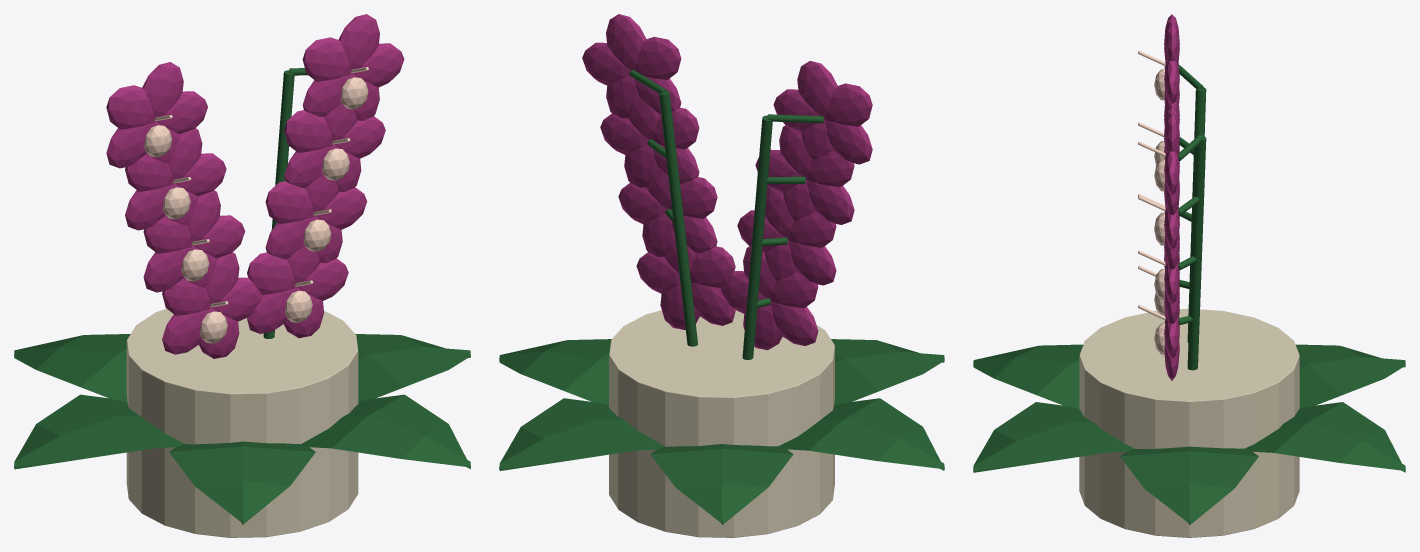
Rendered from source-edit.glb.
The picture shows the model from 3 angles, left to right: view 1: azimuth 30°, elevation 25°; view 2: azimuth 150°, elevation 25°; view 3: azimuth 270°, elevation 25°; orthographic projection. The views are drawn at different scales.
Parts seen in each view (by area): view 1: ORCHID_Pot, ORCHID_Leaf_4, ORCHID_Leaf_3, ORCHID_Leaf_5, ORCHID_Leaf_2, ORCHID_Leaf_0, ORCHID_Bloom_Petal.017, ORCHID_Bloom_Petal.037, ORCHID_Bloom_Petal.027, ORCHID_Bloom_Petal.032, ORCHID_Bloom_Petal.036, ORCHID_Bloom_Petal.016 (+40 smaller); view 2: ORCHID_Pot, ORCHID_Leaf_2, ORCHID_Leaf_1, ORCHID_Leaf_3, ORCHID_Leaf_0, ORCHID_Leaf_4, ORCHID_Stem.001, ORCHID_Stem, ORCHID_Bloom_Petal.017, ORCHID_Bloom_Petal.037, ORCHID_Bloom_Petal.016, ORCHID_Bloom_Petal.036 (+35 smaller); view 3: ORCHID_Pot, ORCHID_Leaf_0, ORCHID_Leaf_5, ORCHID_Leaf_1, ORCHID_Leaf_4, ORCHID_Leaf_2, ORCHID_Stem.001, ORCHID_Stem, ORCHID_Bloom_Petal.035, ORCHID_Bloom_Petal.015, ORCHID_Bloom_Petal.036, ORCHID_Bloom_Petal.016.
Part boxes in pixels (bbox=[...]): ORCHID_Pot: bbox=[126, 308, 358, 537]; ORCHID_Leaf_4: bbox=[169, 441, 315, 524]; ORCHID_Leaf_3: bbox=[14, 394, 184, 469]; ORCHID_Leaf_5: bbox=[301, 394, 470, 469]; ORCHID_Leaf_2: bbox=[14, 334, 130, 401]; ORCHID_Leaf_0: bbox=[355, 334, 470, 401]; ORCHID_Bloom_Petal.017: bbox=[106, 85, 155, 129]; ORCHID_Bloom_Petal.037: bbox=[302, 37, 351, 81]; ORCHID_Bloom_Petal.027: bbox=[265, 181, 314, 223]; ORCHID_Bloom_Petal.032: bbox=[284, 110, 332, 152]; ORCHID_Bloom_Petal.036: bbox=[338, 14, 379, 70]; ORCHID_Bloom_Petal.016: bbox=[142, 62, 183, 118]; ORCHID_Pot: bbox=[609, 310, 834, 537]; ORCHID_Leaf_2: bbox=[650, 444, 793, 524]; ORCHID_Leaf_1: bbox=[499, 398, 664, 470]; ORCHID_Leaf_3: bbox=[778, 398, 944, 470]; ORCHID_Leaf_0: bbox=[499, 339, 611, 405]; ORCHID_Leaf_4: bbox=[831, 339, 944, 404]; ORCHID_Stem.001: bbox=[659, 91, 697, 346]; ORCHID_Stem: bbox=[742, 115, 772, 359]; ORCHID_Bloom_Petal.017: bbox=[825, 83, 872, 126]; ORCHID_Bloom_Petal.037: bbox=[634, 36, 681, 79]; ORCHID_Bloom_Petal.016: bbox=[797, 60, 837, 118]; ORCHID_Bloom_Petal.036: bbox=[606, 14, 646, 70]; ORCHID_Pot: bbox=[1079, 308, 1299, 537]; ORCHID_Leaf_0: bbox=[1120, 446, 1258, 525]; ORCHID_Leaf_5: bbox=[973, 402, 1134, 472]; ORCHID_Leaf_1: bbox=[1244, 402, 1405, 472]; ORCHID_Leaf_4: bbox=[973, 344, 1082, 408]; ORCHID_Leaf_2: bbox=[1296, 344, 1405, 408]; ORCHID_Stem.001: bbox=[1187, 135, 1206, 370]; ORCHID_Stem: bbox=[1187, 87, 1206, 342]; ORCHID_Bloom_Petal.035: bbox=[1164, 151, 1179, 194]; ORCHID_Bloom_Petal.015: bbox=[1164, 61, 1179, 103]; ORCHID_Bloom_Petal.036: bbox=[1164, 111, 1179, 155]; ORCHID_Bloom_Petal.016: bbox=[1164, 21, 1179, 64].
Size of the model in its own units: 0.86 by 0.8178 by 0.7458.
